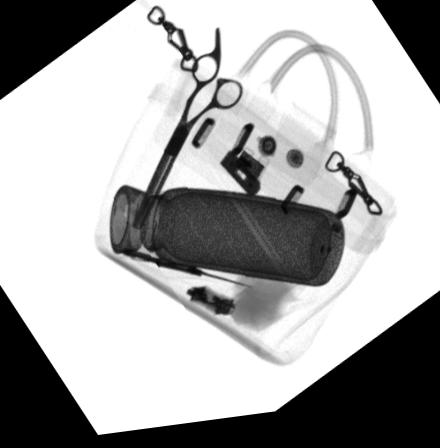Knife: (118, 253, 253, 297)
Scissors: (130, 35, 243, 236)
